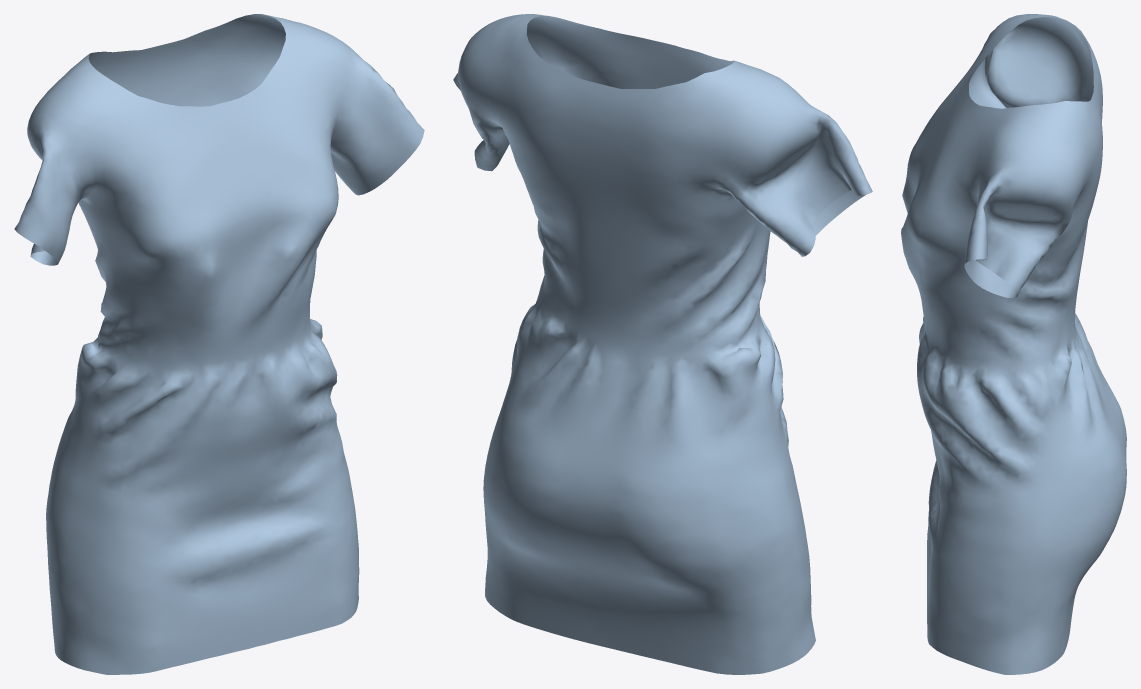
The model's file is dress_S.glb.
The picture shows the model from 3 angles, left to right: view 1: azimuth 30°, elevation 25°; view 2: azimuth 150°, elevation 25°; view 3: azimuth 270°, elevation 25°; orthographic projection. The views are drawn at different scales.
Visible parts, largest first — view 1: geometry_0; view 2: geometry_0; view 3: geometry_0.
Part boxes in pixels (box(x1,y1,x2,y2)): geometry_0: box(14, 14, 424, 674); geometry_0: box(453, 14, 872, 674); geometry_0: box(901, 14, 1126, 674).
Size of the model in its own units: 0.5389 by 0.733 by 0.2729.
